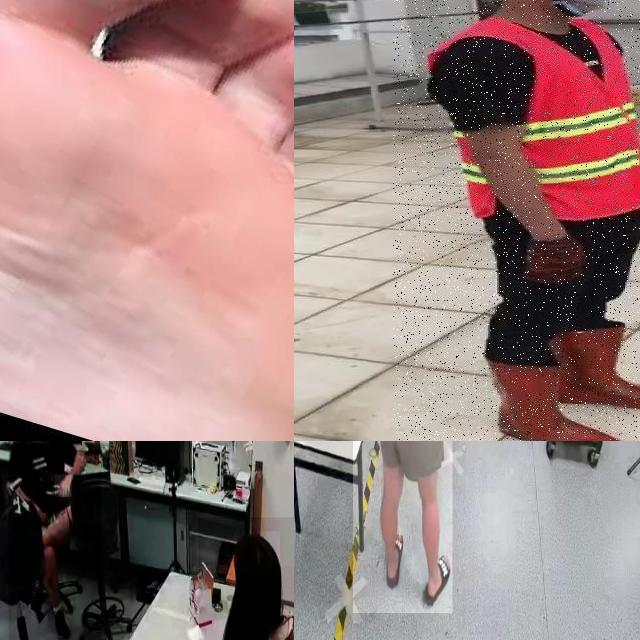Barefoots: (0, 0, 294, 435)
boots: (488, 358, 625, 441), (554, 328, 640, 411)
hand_noglove: (55, 475, 71, 497), (39, 508, 51, 526)
head_nohelmet: (234, 532, 280, 576)
person: (393, 0, 640, 441), (8, 441, 101, 640), (353, 441, 453, 614), (198, 517, 294, 640)
shoes: (47, 597, 72, 640)
vest: (424, 16, 640, 219)
